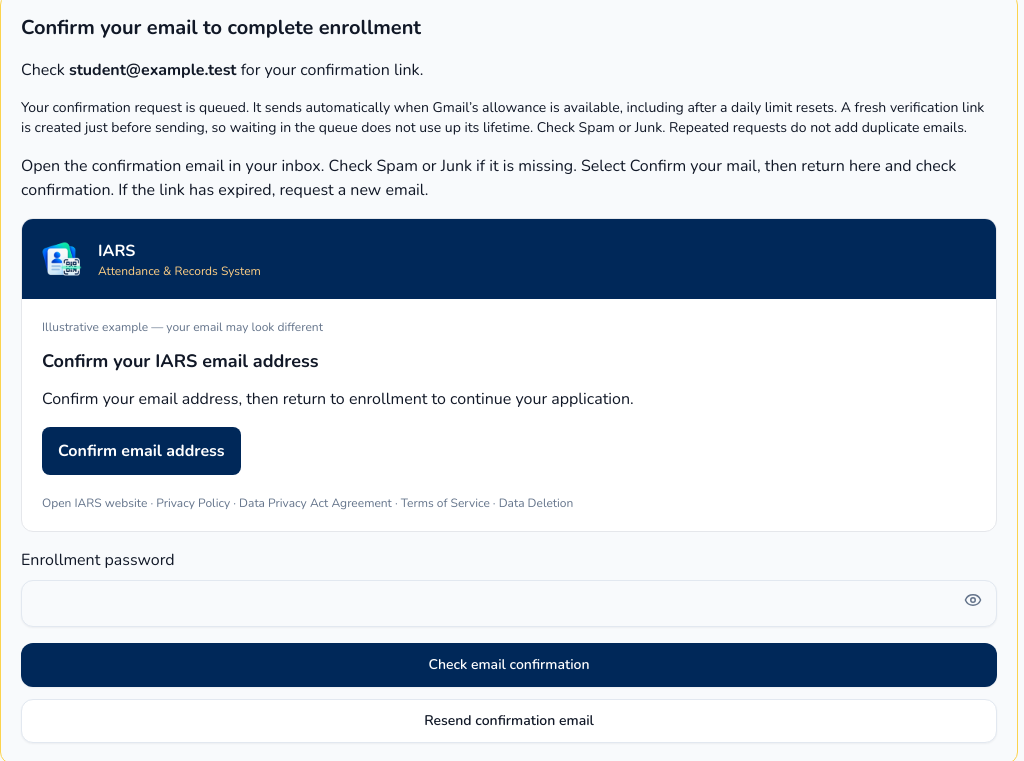
Scenario: does not accept a successful password login as proof of email confirmation
Click the button "Check email confirmation". click: click(509, 665)
box: [21,643,997,687]
(page scrolled)
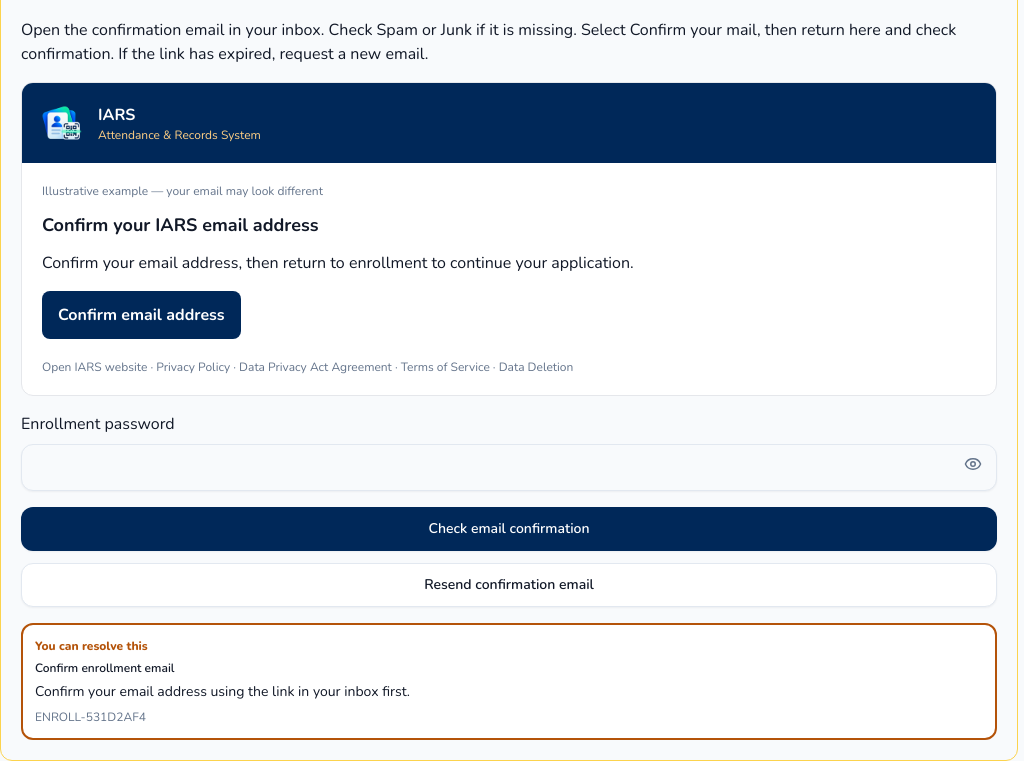
Now the message is shown, box [21,623,997,740]
